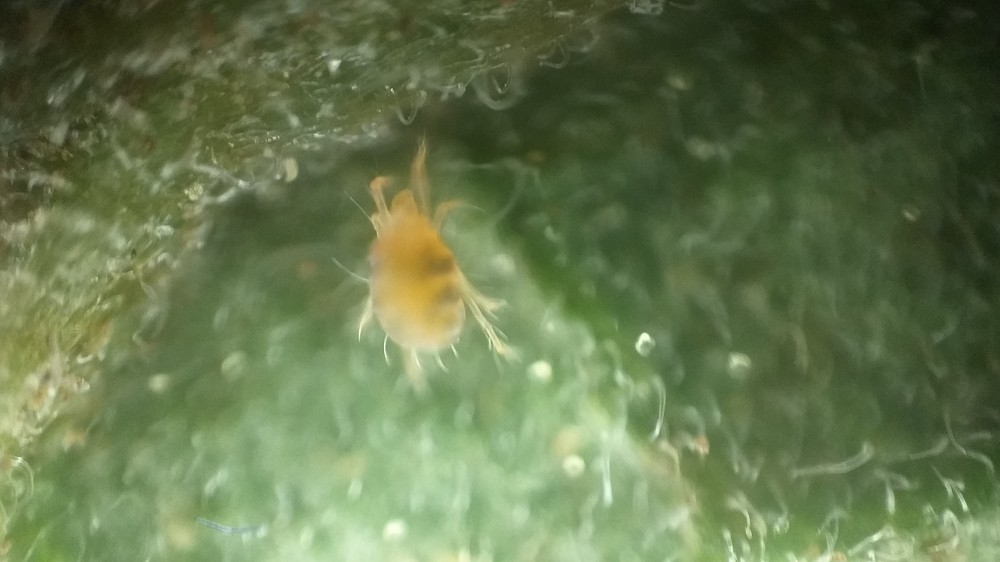Aracnido Rojo: (329, 142, 522, 382)
